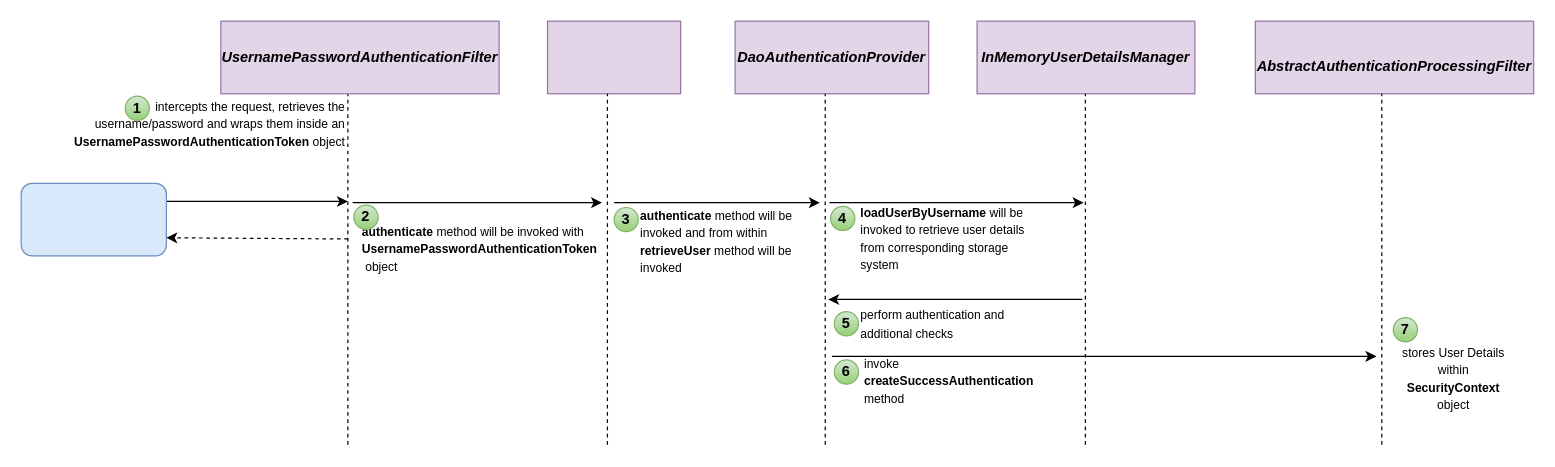
This 1555x467 diagram has some shape labels left out. The centre of each missing label's shape, as x and y in pixels:
"ProviderManager" goes at point (613, 57).
"User provides credentials" goes at point (93, 219).
